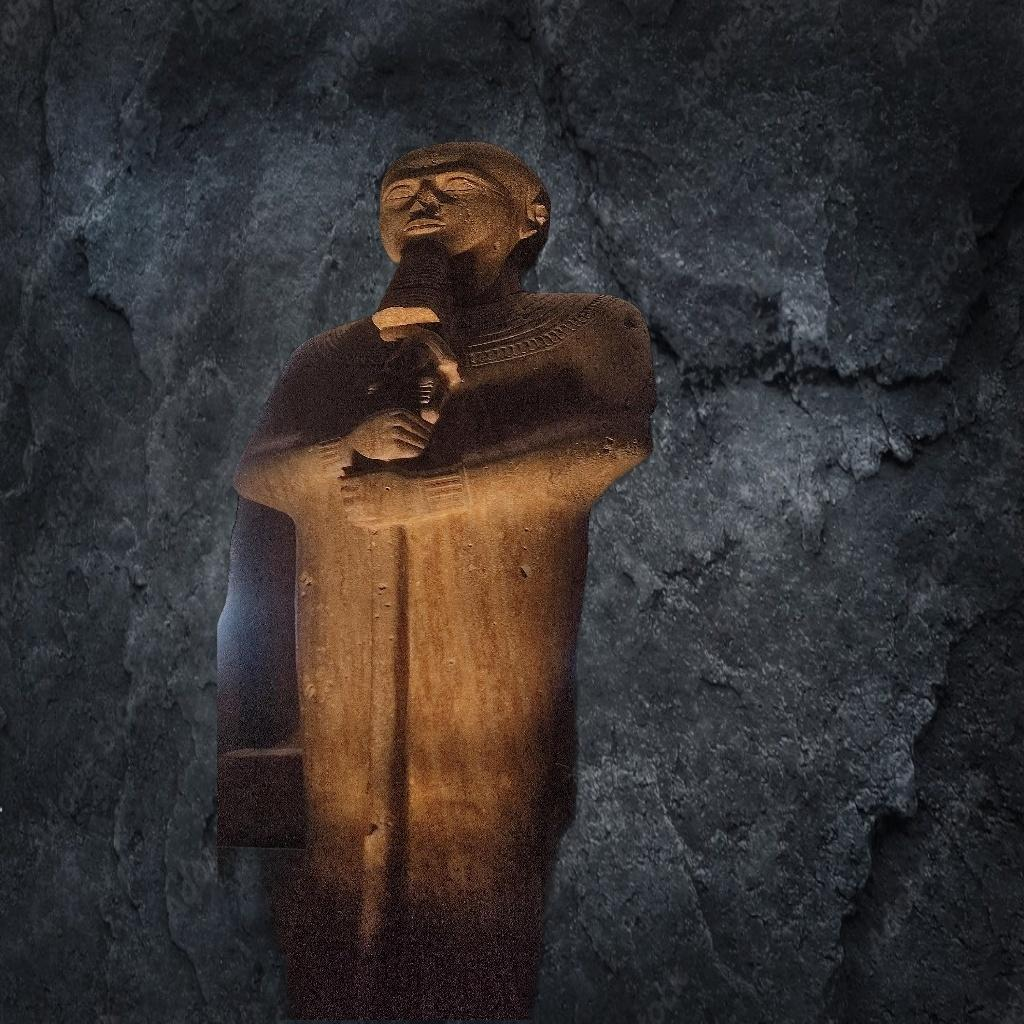Colossal Statue of God Ptah: (218, 134, 663, 1020)
